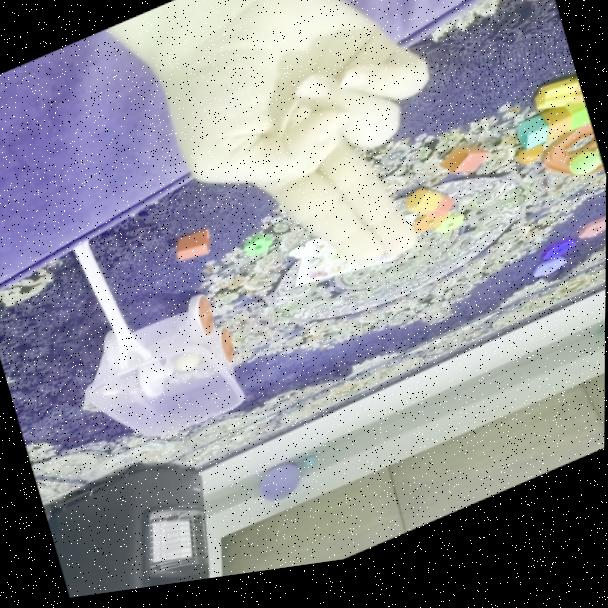one: (154, 0, 484, 343)
